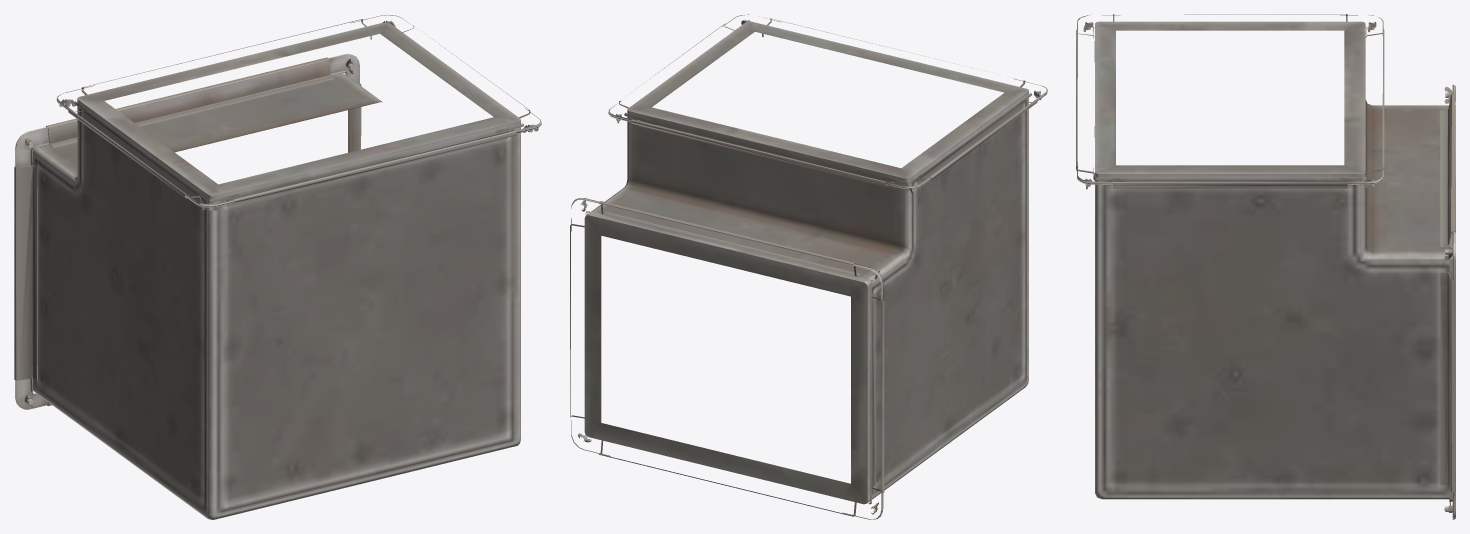
File: modular-airduct-rectangular-01-corner.glb
The picture shows the model from 3 angles, left to right: view 1: azimuth 30°, elevation 25°; view 2: azimuth 150°, elevation 25°; view 3: azimuth 270°, elevation 25°; orthographic projection. The views are drawn at different scales.
Visible parts, largest first — view 1: modular_airduct_rectangular_01_corner; view 2: modular_airduct_rectangular_01_corner; view 3: modular_airduct_rectangular_01_corner.
Boxes of the visible parts, box(x1,y1,x2,y2) form: modular_airduct_rectangular_01_corner: box(14, 15, 541, 519); modular_airduct_rectangular_01_corner: box(570, 14, 1047, 519); modular_airduct_rectangular_01_corner: box(1076, 14, 1455, 519).
Size of the model in its own units: 0.6634 by 0.6313 by 0.6313.
1 material, 1 textured.
